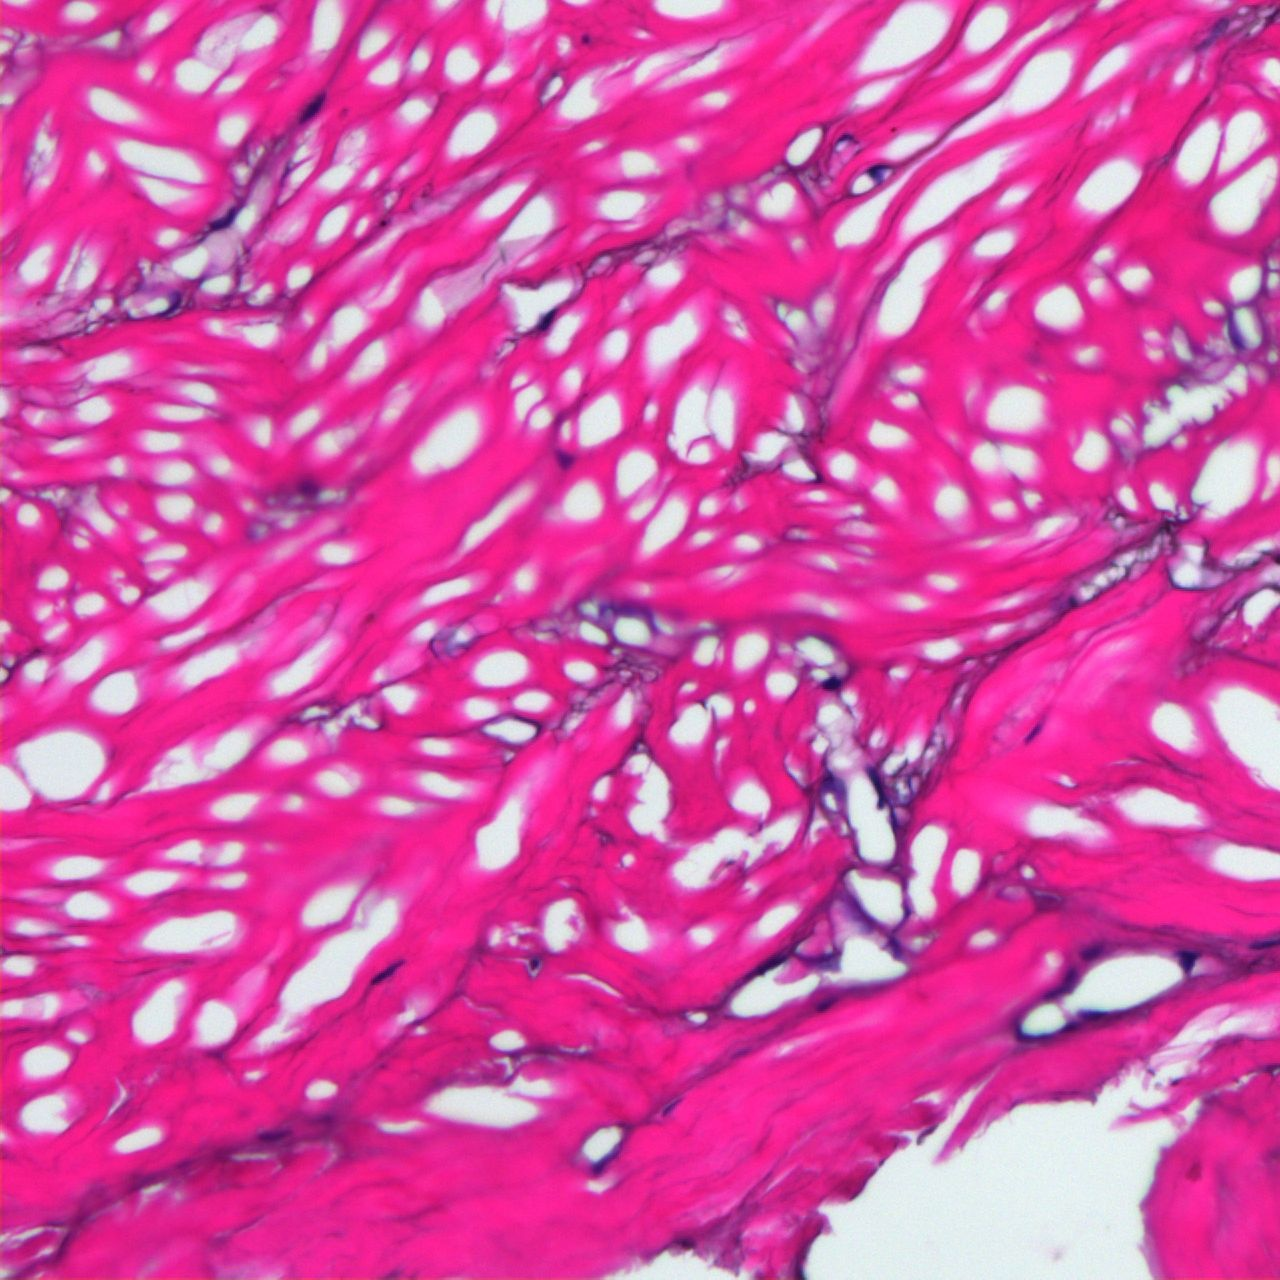nucleus-HE: (862, 765, 890, 809), (369, 956, 406, 988), (209, 205, 240, 233), (297, 95, 325, 124), (535, 306, 560, 333), (1080, 939, 1104, 962), (554, 447, 576, 470), (1177, 949, 1198, 971), (1061, 967, 1077, 992), (1080, 1010, 1107, 1021), (821, 678, 838, 689), (581, 34, 588, 43)
